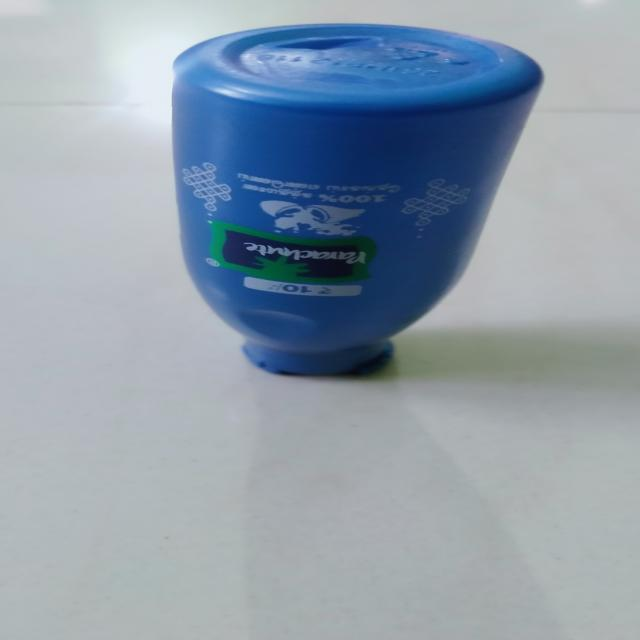oil: (160, 18, 559, 384)
